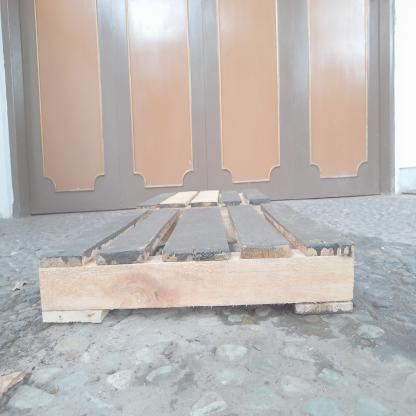Wooden-Pallet: (35, 199, 359, 326), (134, 187, 271, 205)
